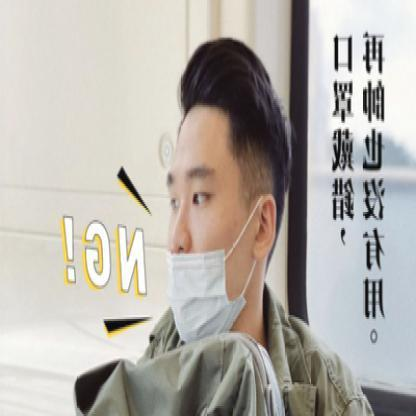mask_weared_incorrect: (167, 159, 248, 341)
